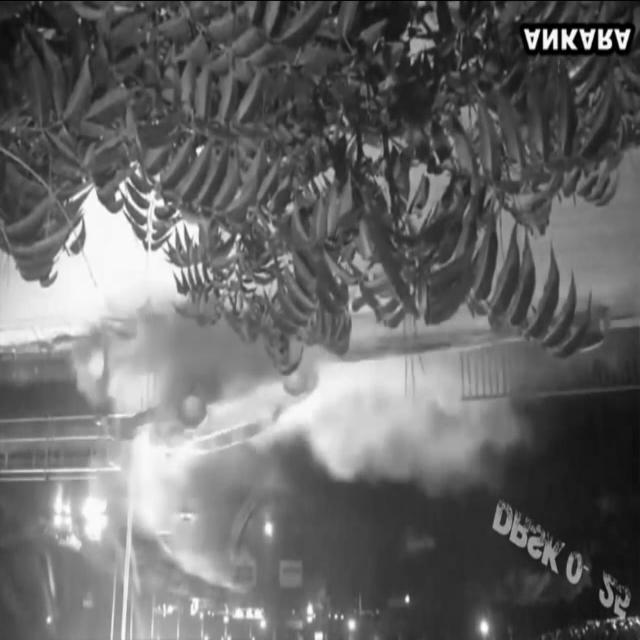person: (94, 350, 346, 470)
